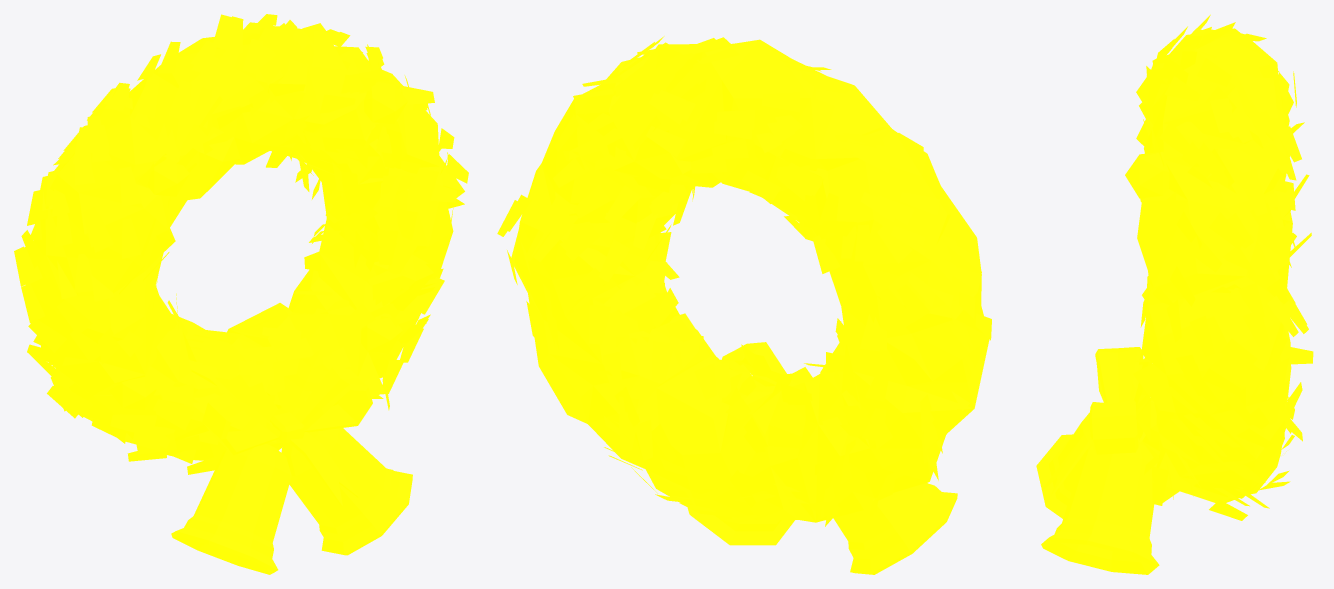
The model's file is wreath-wall.glb.
3 renders of one model, left to right at view 1: azimuth 30°, elevation 25°; view 2: azimuth 150°, elevation 25°; view 3: azimuth 270°, elevation 25°, orthographic. The views are drawn at different scales.
Visible parts, largest first — view 1: wreath_wall; view 2: wreath_wall; view 3: wreath_wall.
Part boxes in pixels (x1,y1,x2,y2): wreath_wall: (14,14,468,574); wreath_wall: (497,36,991,574); wreath_wall: (1036,14,1313,574).
Size of the model in its own units: 0.5754 by 0.6442 by 0.3138.
1 material, 1 textured.
